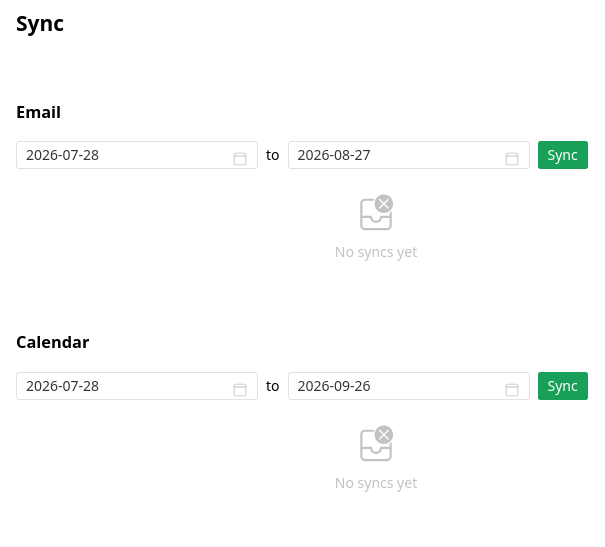
Test: SyncPage calendar section › renders a calendar failure result with the error text
This screenshot has width=605, height=547.
Click the button with test id "calendar-sync-button".
click(563, 386)  # box [538,372,588,400]
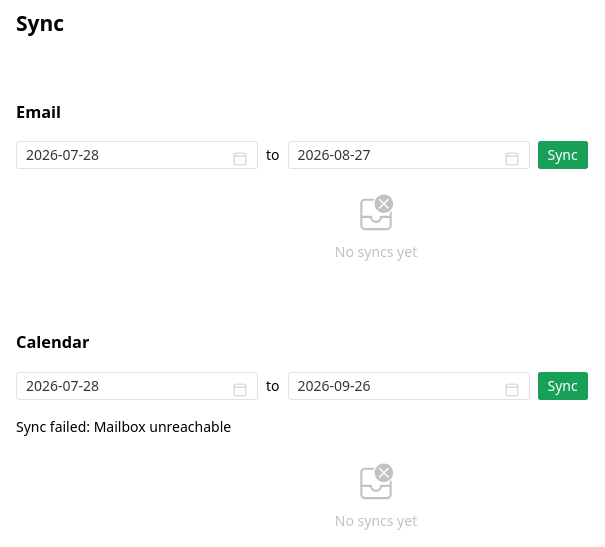
Expected: the text with test id "calendar-sync-result" shows "Mailbox unreachable", [16,417,231,436]
